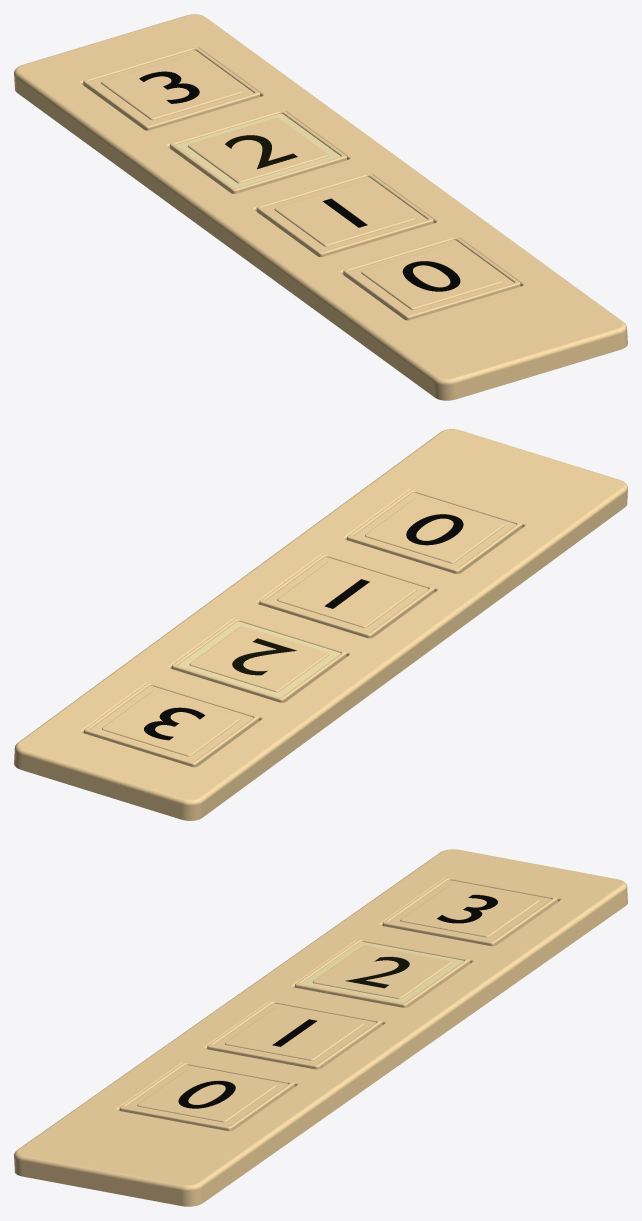
The picture shows the model from 3 angles, top to bottom: view 1: azimuth 30°, elevation 25°; view 2: azimuth 150°, elevation 25°; view 3: azimuth 330°, elevation 25°; orthographic projection.
Visible parts, largest first — view 1: PANEL 1; view 2: PANEL 1; view 3: PANEL 1.
Boxes of the visible parts, x1,y1,x2,y2 form: PANEL 1: (14, 14, 627, 400); PANEL 1: (14, 429, 627, 820); PANEL 1: (14, 849, 627, 1206).
Size of the model in its own units: 5.17 by 0.9586 by 20.03.
